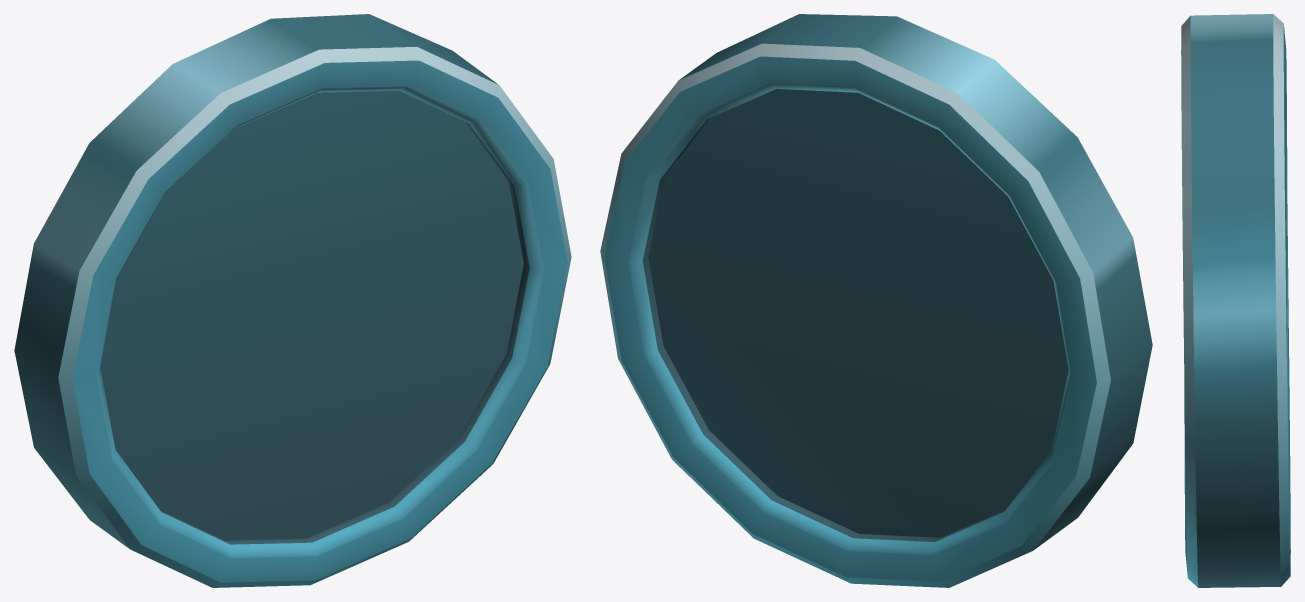
Rendered from badge.glb.
The picture shows the model from 3 angles, left to right: view 1: azimuth 30°, elevation 25°; view 2: azimuth 150°, elevation 25°; view 3: azimuth 270°, elevation 25°; orthographic projection. The views are drawn at different scales.
Parts seen in each view (by area): view 1: O_Blip_Coin_01; view 2: O_Blip_Coin_01; view 3: O_Blip_Coin_01.
Boxes of the visible parts, box(x1,y1,x2,y2) form: O_Blip_Coin_01: box(14, 14, 571, 587); O_Blip_Coin_01: box(600, 14, 1152, 587); O_Blip_Coin_01: box(1181, 14, 1290, 587).
Bounding box in the file's own units: 0.6903 × 0.6899 × 0.1318.
Materials: 1 (1 with a texture image).
